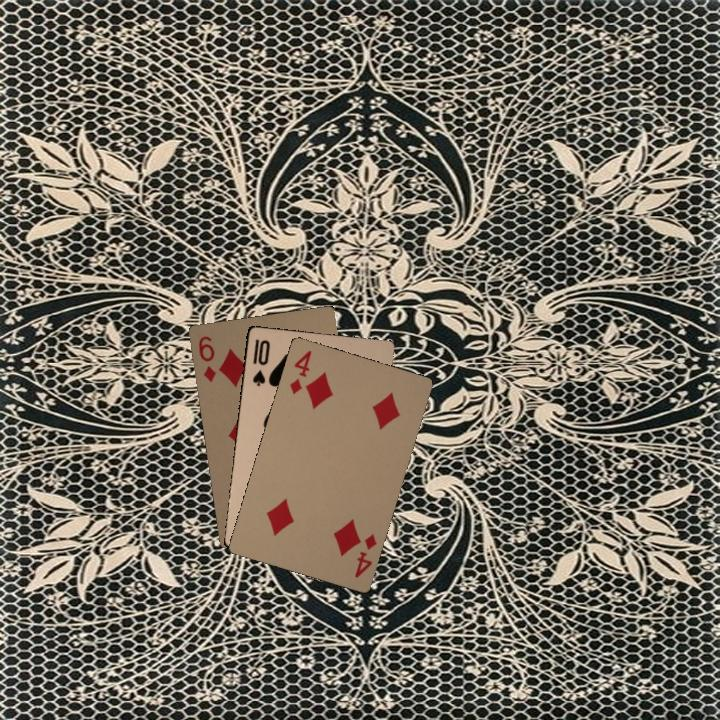10s: (248, 335, 272, 388)
4d: (285, 346, 314, 397), (351, 530, 379, 580)
6d: (194, 332, 218, 385)
